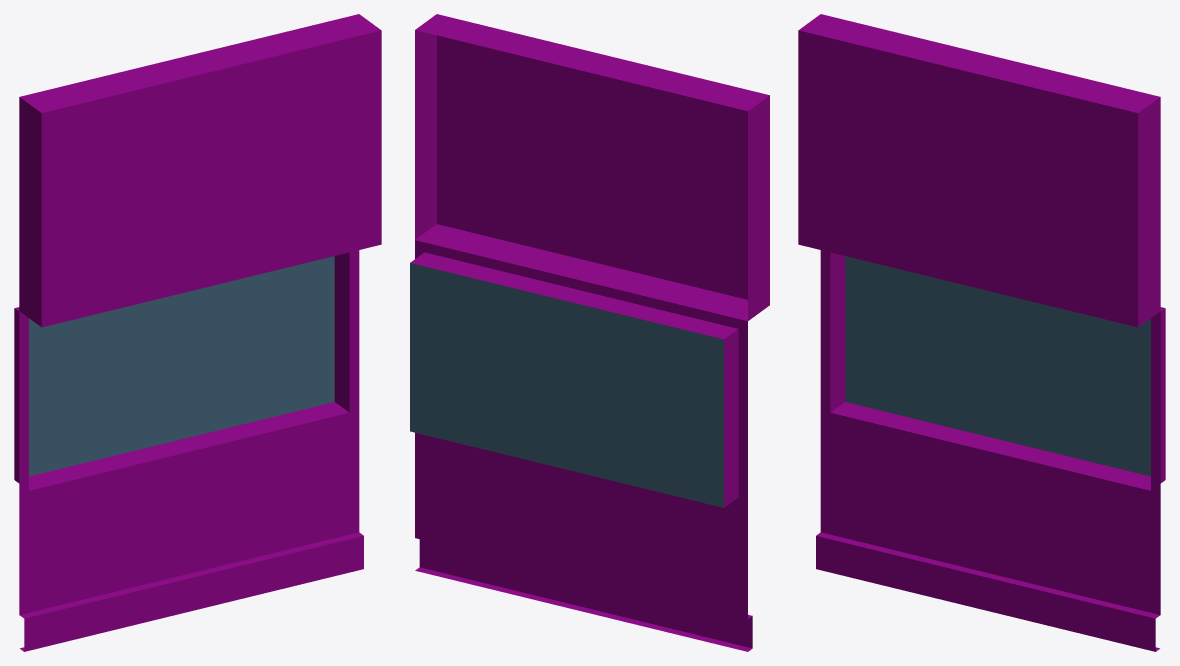
The model's file is Wallpiece_2.FBX.
3 views of the same model, side by side, from view 1: azimuth 30°, elevation 25°; view 2: azimuth 150°, elevation 25°; view 3: azimuth 330°, elevation 25° (orthographic). The views are drawn at different scales.
Visible parts, largest first — view 1: ENV_WallPiece_002; view 2: ENV_WallPiece_002; view 3: ENV_WallPiece_002.
Part boxes in pixels (bbox=[...]): ENV_WallPiece_002: bbox=[14, 14, 381, 651]; ENV_WallPiece_002: bbox=[410, 14, 769, 651]; ENV_WallPiece_002: bbox=[798, 14, 1165, 651].
Bounding box in the file's own units: 207 × 321 × 39.09.
